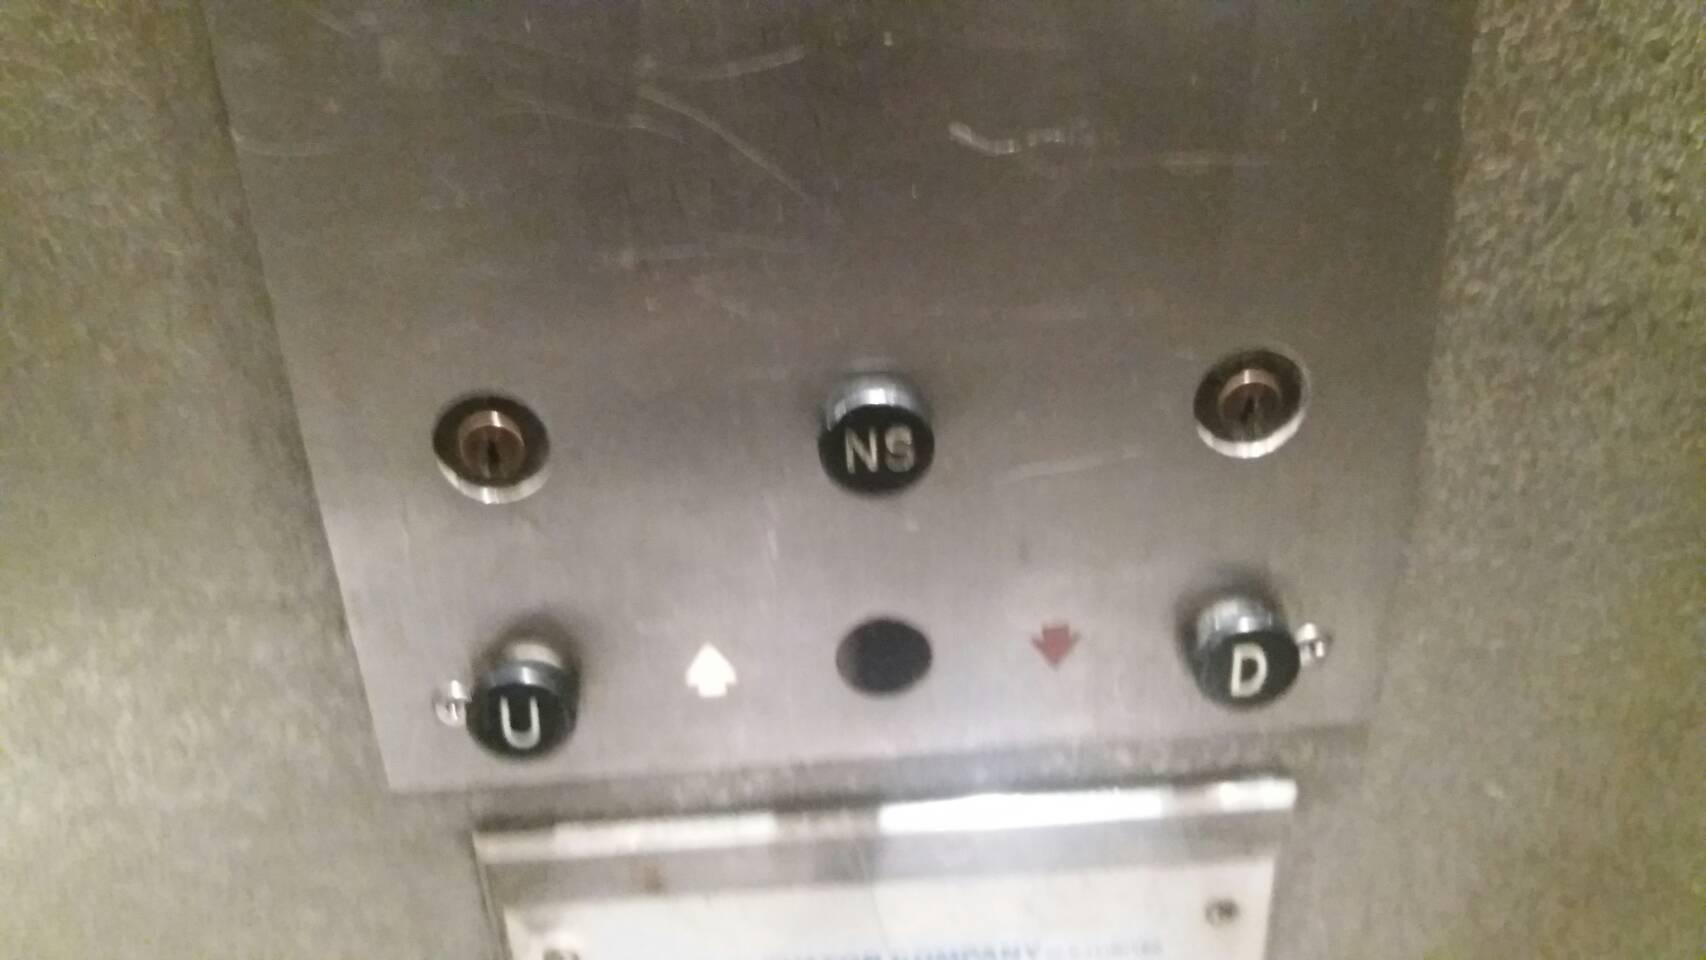D: (1171, 593, 1309, 717)
NS: (810, 374, 939, 511)
U: (464, 634, 580, 765)
empty: (826, 605, 939, 707)
keyhole: (1187, 333, 1319, 467), (426, 388, 558, 515)
